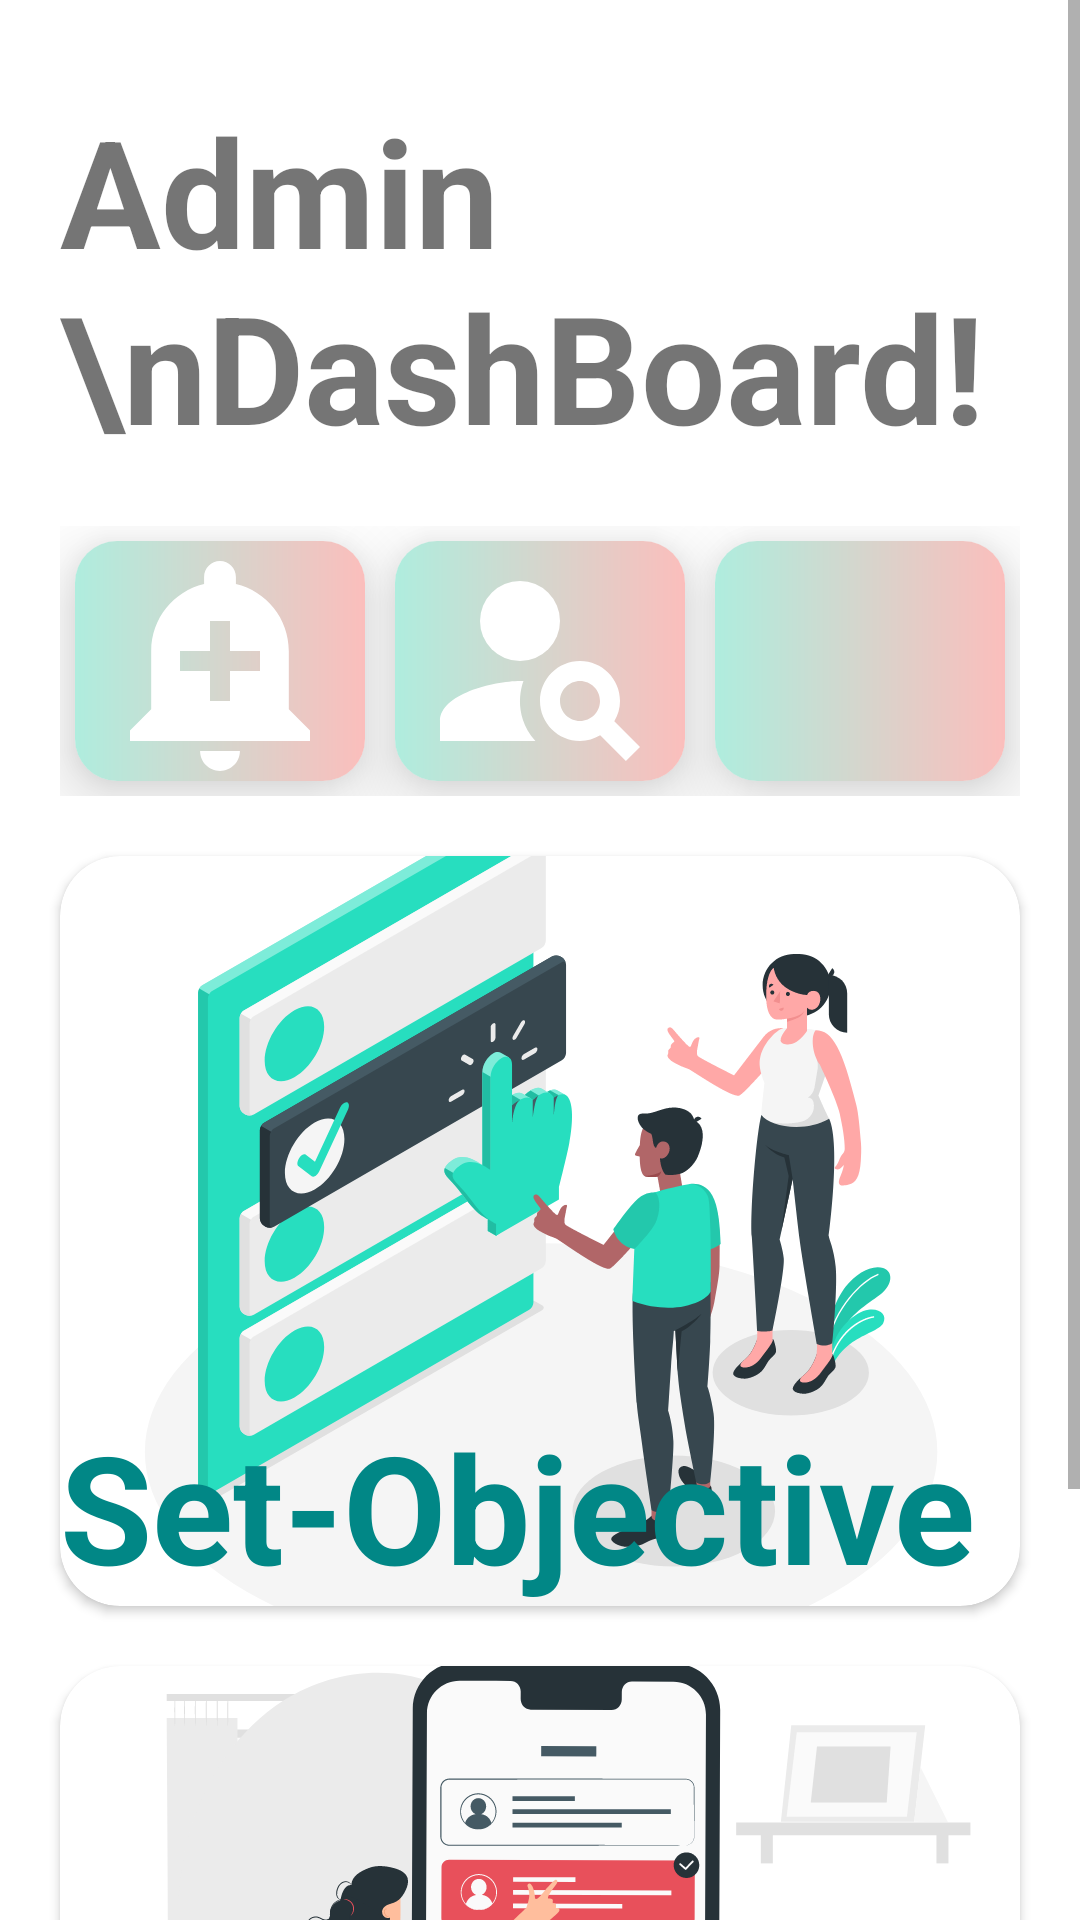

Named icons in this screenshot (1080 × 1920) and their centers, [x,y]:
anaunce: [220,661]
person: [540,661]
